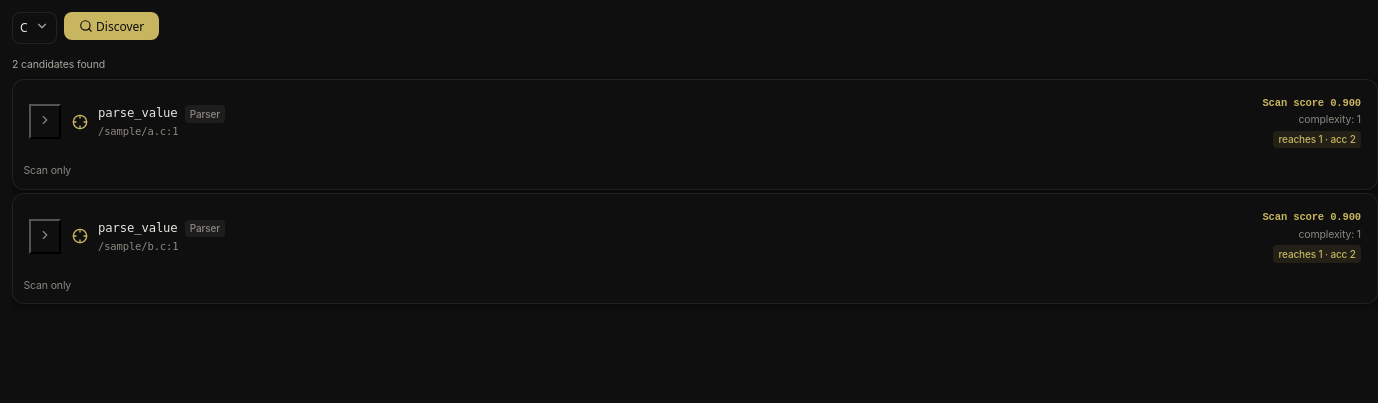
Scenario: shows failed coverage as unavailable and permits a successful retry
Click the button named "Toggle call tree node" next to "/sample/a.c" at [45, 122], box [29,104,61,139]
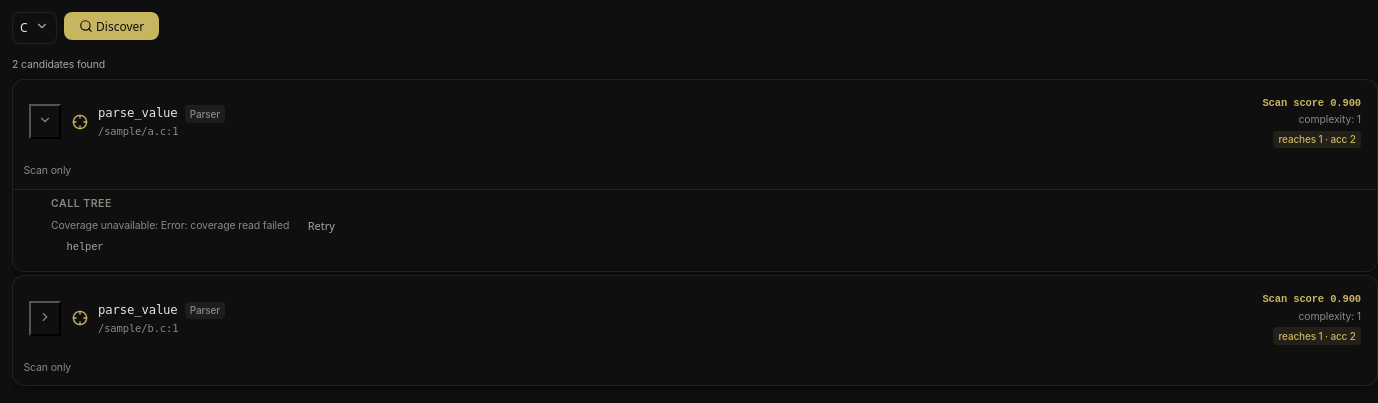
Now the text "coverage read failed" is shown, box [51,219,289,232]
Now the button "Retry" is shown
Click the button "Retry" at [321, 226], box [296,214,346,238]
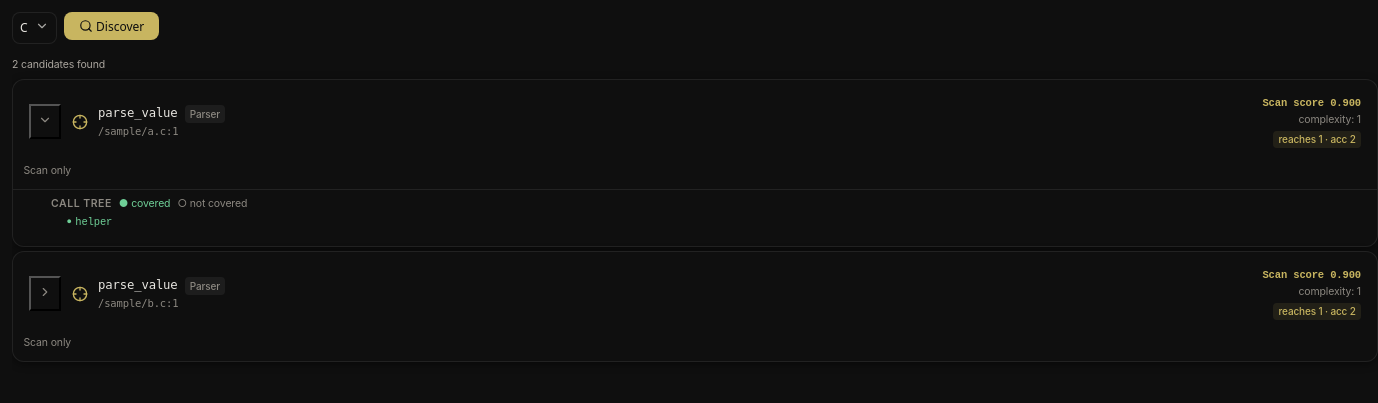
Now the text "coverage read failed" is gone
Now the text "covered" is shown, box [131,196,170,210]
